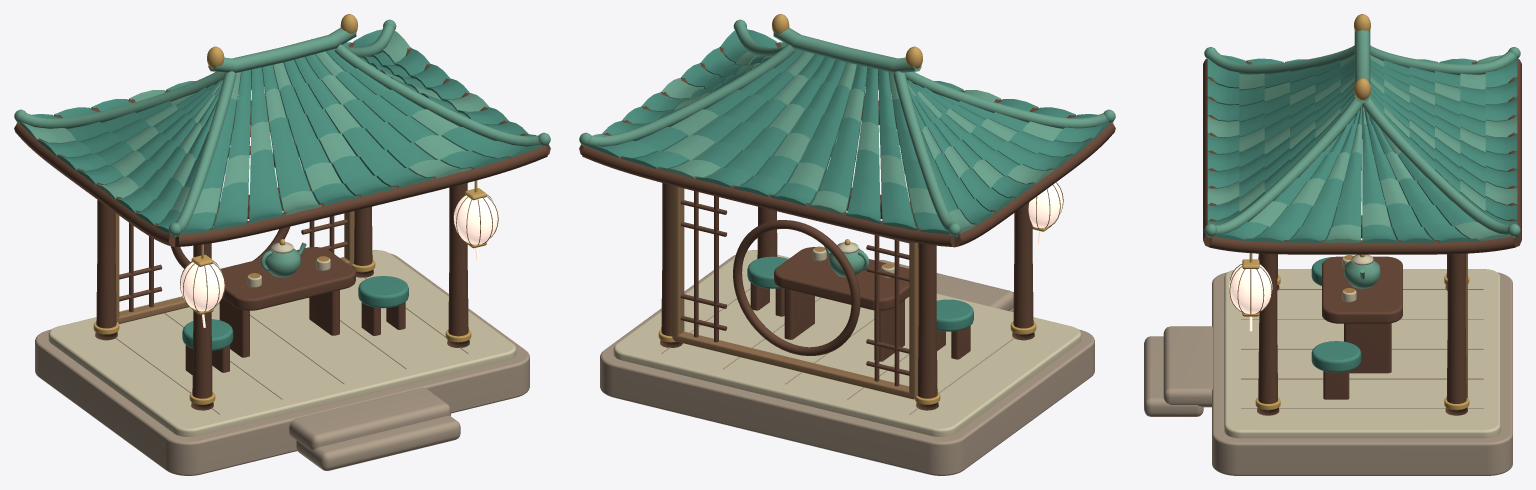
The model's file is tea_pavilion_atelier.glb.
3 renders of one model, left to right at view 1: azimuth 30°, elevation 25°; view 2: azimuth 150°, elevation 25°; view 3: azimuth 270°, elevation 25°, orthographic.
Visible parts, largest first — view 1: tea_pavilion_atelier__TaggedPainted_TeaPavilion_Matte, tea_pavilion_atelier__Painted_TeaPavilion_Glaze, tea_pavilion_atelier__Painted_TeaPavilion_Glow, tea_pavilion_atelier__Painted_TeaPavilion_Metal; view 2: tea_pavilion_atelier__TaggedPainted_TeaPavilion_Matte, tea_pavilion_atelier__Painted_TeaPavilion_Glaze, tea_pavilion_atelier__Painted_TeaPavilion_Metal, tea_pavilion_atelier__Painted_TeaPavilion_Glow; view 3: tea_pavilion_atelier__TaggedPainted_TeaPavilion_Matte, tea_pavilion_atelier__Painted_TeaPavilion_Glaze, tea_pavilion_atelier__Painted_TeaPavilion_Glow, tea_pavilion_atelier__Painted_TeaPavilion_Metal.
Boxes of the visible parts, x1=… form: tea_pavilion_atelier__TaggedPainted_TeaPavilion_Matte: x1=14, y1=42, x2=550, y2=475; tea_pavilion_atelier__Painted_TeaPavilion_Glaze: x1=14, y1=19, x2=550, y2=350; tea_pavilion_atelier__Painted_TeaPavilion_Glow: x1=180, y1=195, x2=497, y2=327; tea_pavilion_atelier__Painted_TeaPavilion_Metal: x1=93, y1=14, x2=486, y2=404; tea_pavilion_atelier__TaggedPainted_TeaPavilion_Matte: x1=579, y1=42, x2=1115, y2=475; tea_pavilion_atelier__Painted_TeaPavilion_Glaze: x1=579, y1=19, x2=1115, y2=331; tea_pavilion_atelier__Painted_TeaPavilion_Metal: x1=658, y1=14, x2=1051, y2=404; tea_pavilion_atelier__Painted_TeaPavilion_Glow: x1=1028, y1=182, x2=1062, y2=244; tea_pavilion_atelier__TaggedPainted_TeaPavilion_Matte: x1=1144, y1=59, x2=1521, y2=475; tea_pavilion_atelier__Painted_TeaPavilion_Glaze: x1=1204, y1=30, x2=1520, y2=372; tea_pavilion_atelier__Painted_TeaPavilion_Glow: x1=1229, y1=265, x2=1272, y2=331; tea_pavilion_atelier__Painted_TeaPavilion_Metal: x1=1242, y1=14, x2=1469, y2=410.
Size of the model in its own units: 4 by 3.5 by 3.49.
